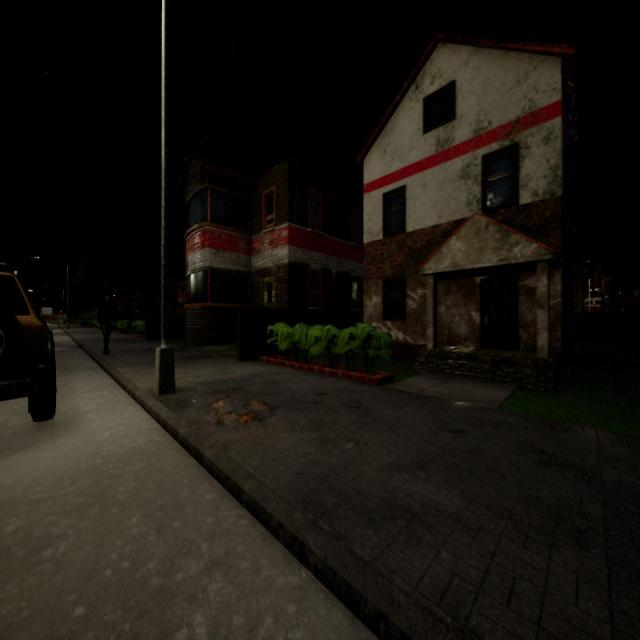Pedestrian: (97, 295, 115, 354)
Vehicle: (0, 270, 56, 421)
traffic_light: (60, 309, 62, 315)
